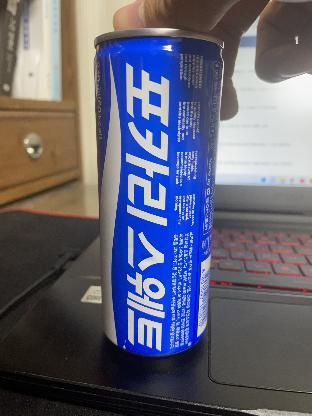Can: (87, 32, 227, 366)
